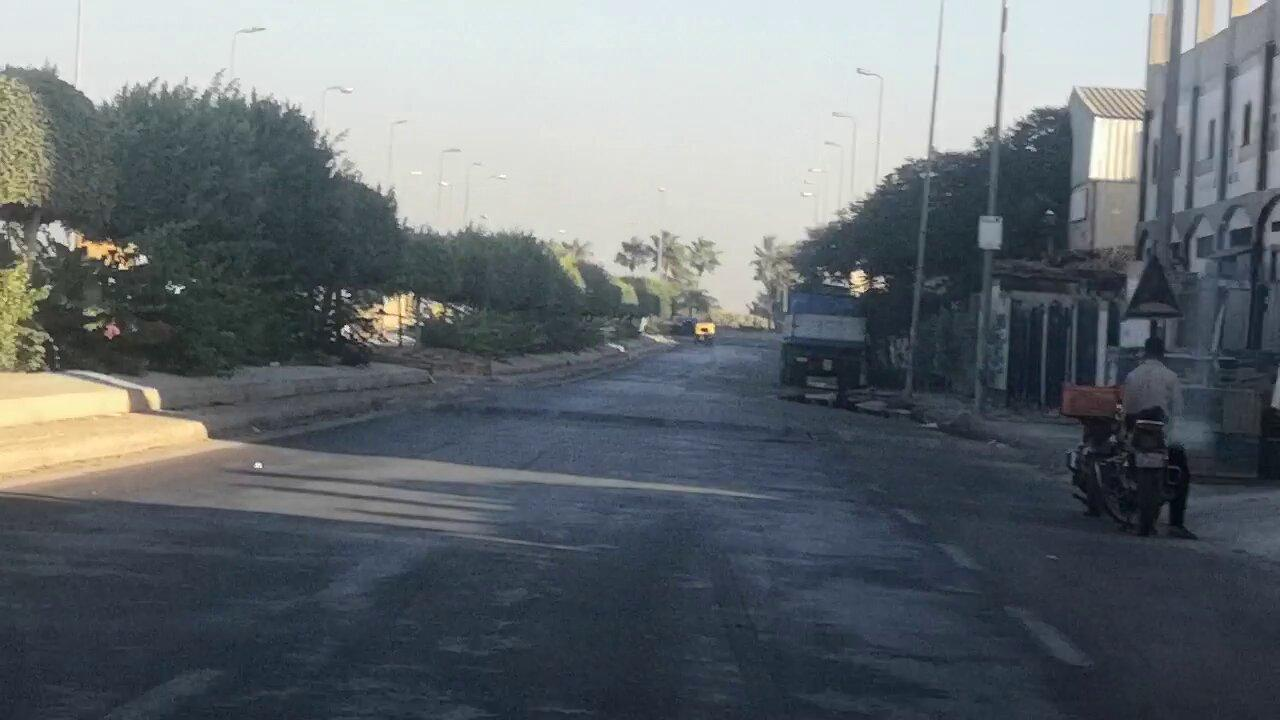Bump: (412, 393, 977, 453)
